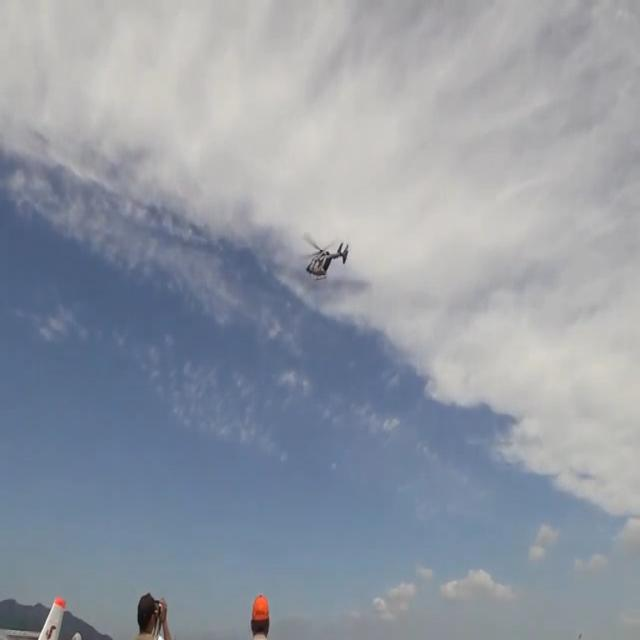Helicopter: (286, 220, 356, 294)
